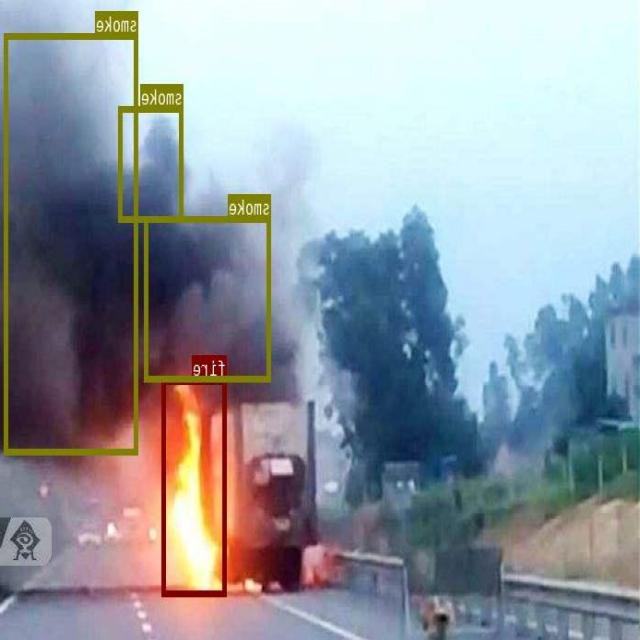fire: (163, 376, 227, 595)
smoke: (5, 32, 138, 454), (146, 216, 272, 380), (120, 106, 184, 221)
